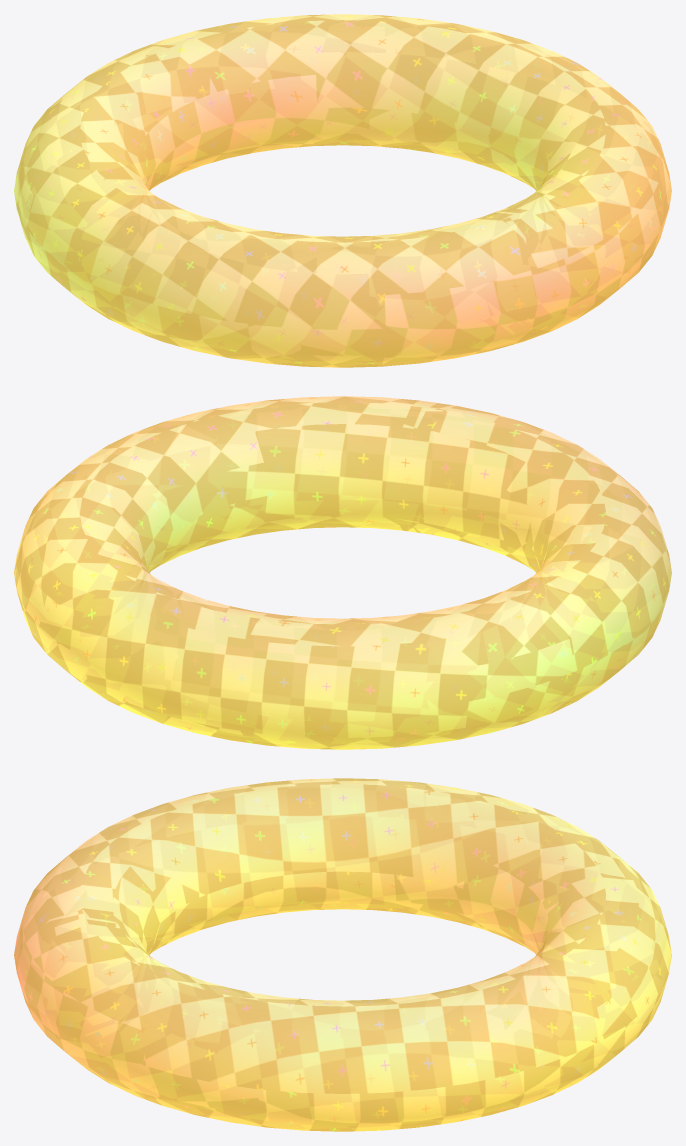
3 views of the same model, one above another, from view 1: azimuth 30°, elevation 25°; view 2: azimuth 150°, elevation 25°; view 3: azimuth 270°, elevation 25° (orthographic).
Visible parts, largest first — view 1: Torus; view 2: Torus; view 3: Torus.
Part boxes in pixels (x1,y1,x2,y2): Torus: (14,14,671,367); Torus: (14,396,671,749); Torus: (14,778,671,1131).
Bounding box in the file's own units: 2.5 × 0.5 × 2.5.
1 material, 1 textured.
